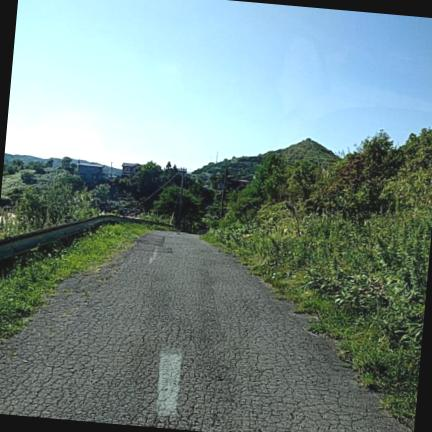Road: (0, 232, 408, 431)
